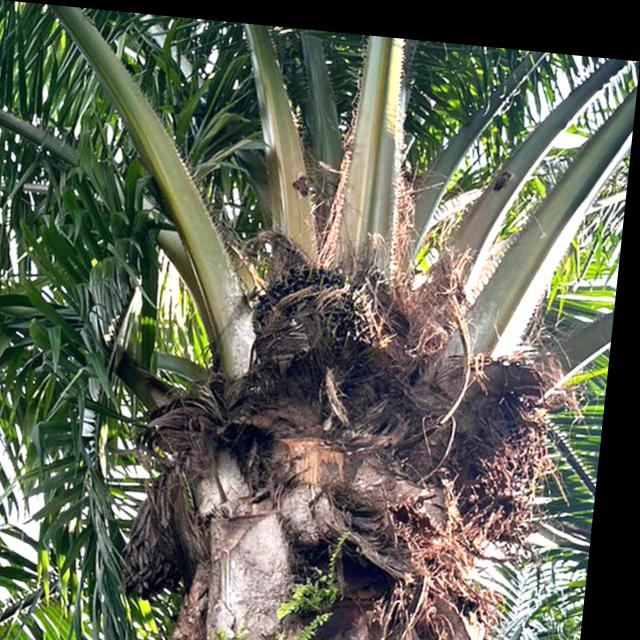ripe: (257, 242, 384, 366)
